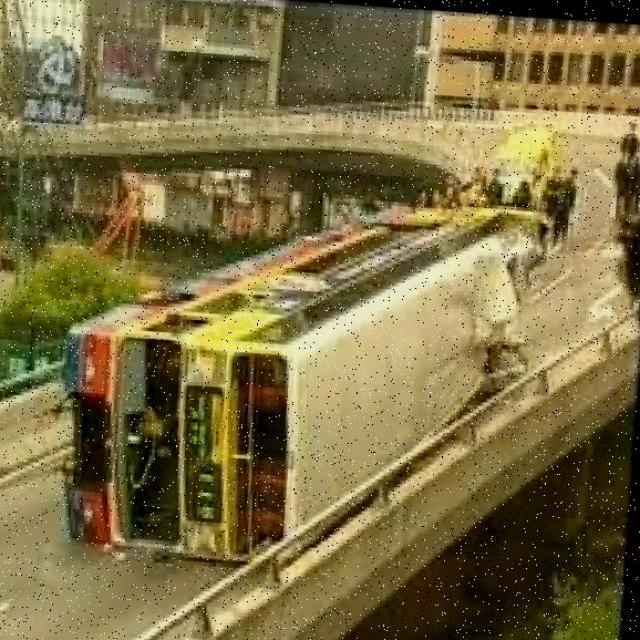accident: (34, 149, 557, 579)
